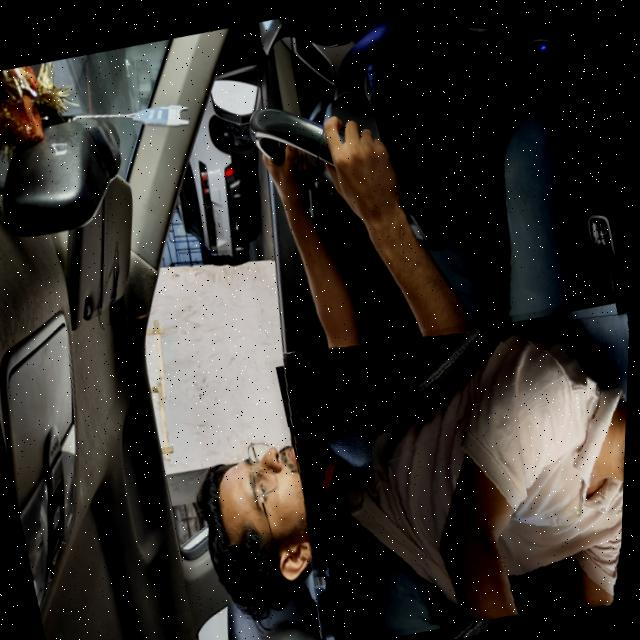no-seatbelt: (262, 269, 633, 640)
